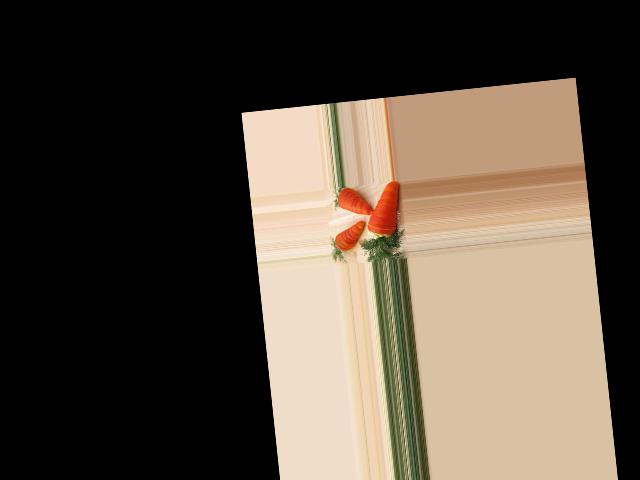carrot: (359, 180, 407, 242)
